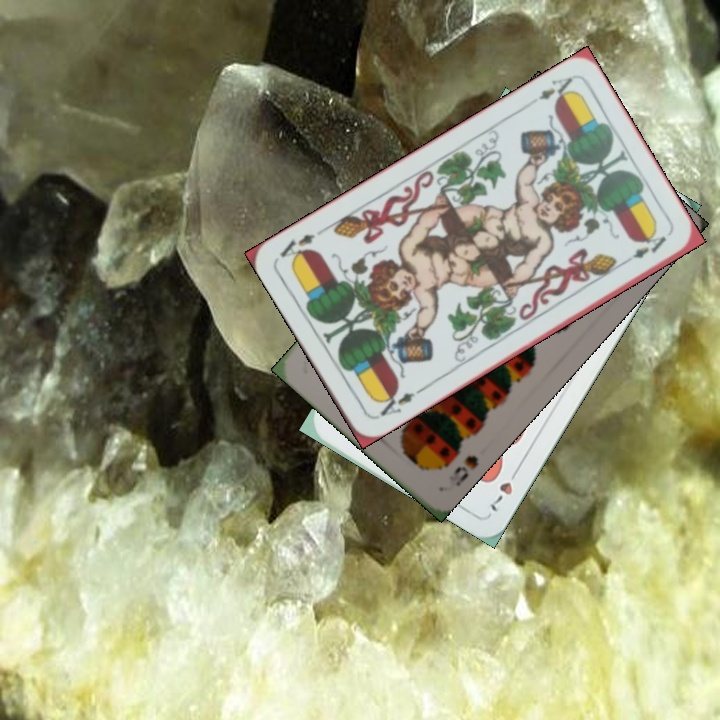EA: (372, 384, 425, 422), (534, 73, 577, 106)
H7: (486, 463, 522, 515)
S8: (441, 451, 481, 492)
